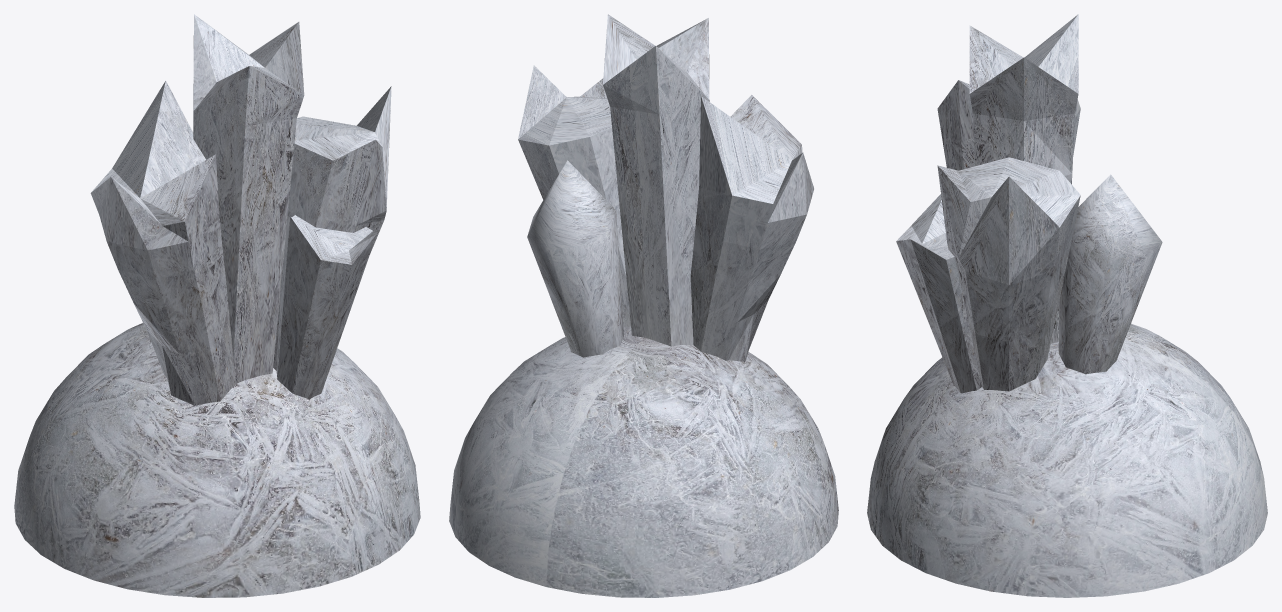
File: LampLight_3DAsset_PinkCrystalCracked.FBX
The picture shows the model from 3 angles, left to right: view 1: azimuth 30°, elevation 25°; view 2: azimuth 150°, elevation 25°; view 3: azimuth 270°, elevation 25°; orthographic projection. The views are drawn at different scales.
Parts seen in each view (by area): view 1: LampLight_Crystal_Base004, Left_PinkCrystal001, LampLight_PinkCracked, Front_Small_PinkCrystal001, Right_PinkCrystal001; view 2: LampLight_Crystal_Base004, LampLight_PinkCracked, Left_PinkCrystal001, Back_Small_PinkCrystal001, Right_PinkCrystal001; view 3: LampLight_Crystal_Base004, Right_PinkCrystal001, LampLight_PinkCracked, Back_Small_PinkCrystal001, Front_Small_PinkCrystal001, Left_PinkCrystal001.
Part boxes in pixels (x1,y1,x2,y2): LampLight_Crystal_Base004: [14, 323, 420, 597]; Left_PinkCrystal001: [90, 80, 235, 405]; LampLight_PinkCracked: [193, 14, 304, 383]; Front_Small_PinkCrystal001: [276, 215, 376, 399]; Right_PinkCrystal001: [273, 86, 391, 370]; LampLight_Crystal_Base004: [449, 326, 838, 597]; LampLight_PinkCracked: [603, 14, 709, 346]; Left_PinkCrystal001: [690, 95, 813, 361]; Back_Small_PinkCrystal001: [527, 160, 623, 357]; Right_PinkCrystal001: [518, 65, 630, 326]; LampLight_Crystal_Base004: [867, 323, 1267, 597]; Right_PinkCrystal001: [937, 157, 1080, 391]; LampLight_PinkCracked: [969, 14, 1078, 343]; Back_Small_PinkCrystal001: [1058, 174, 1162, 374]; Front_Small_PinkCrystal001: [896, 194, 981, 393]; Left_PinkCrystal001: [937, 80, 1080, 170].
Bounding box in the file's own units: 35.2 × 47.53 × 35.2.
